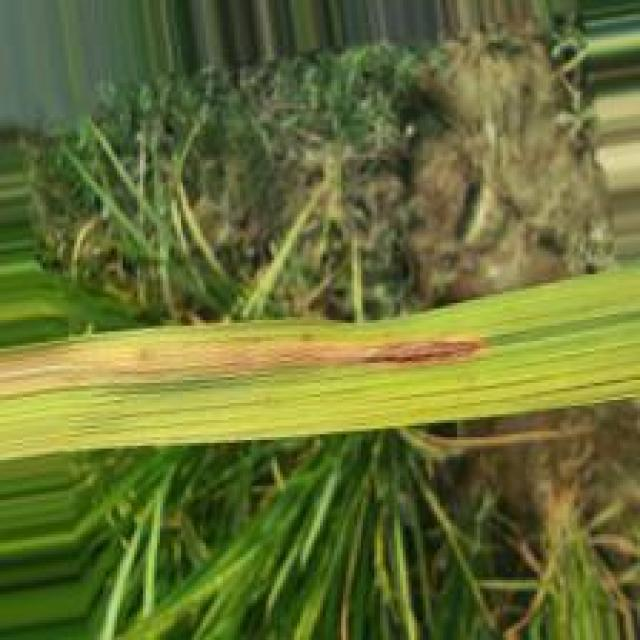Leaf_Blast: (193, 333, 495, 376)
